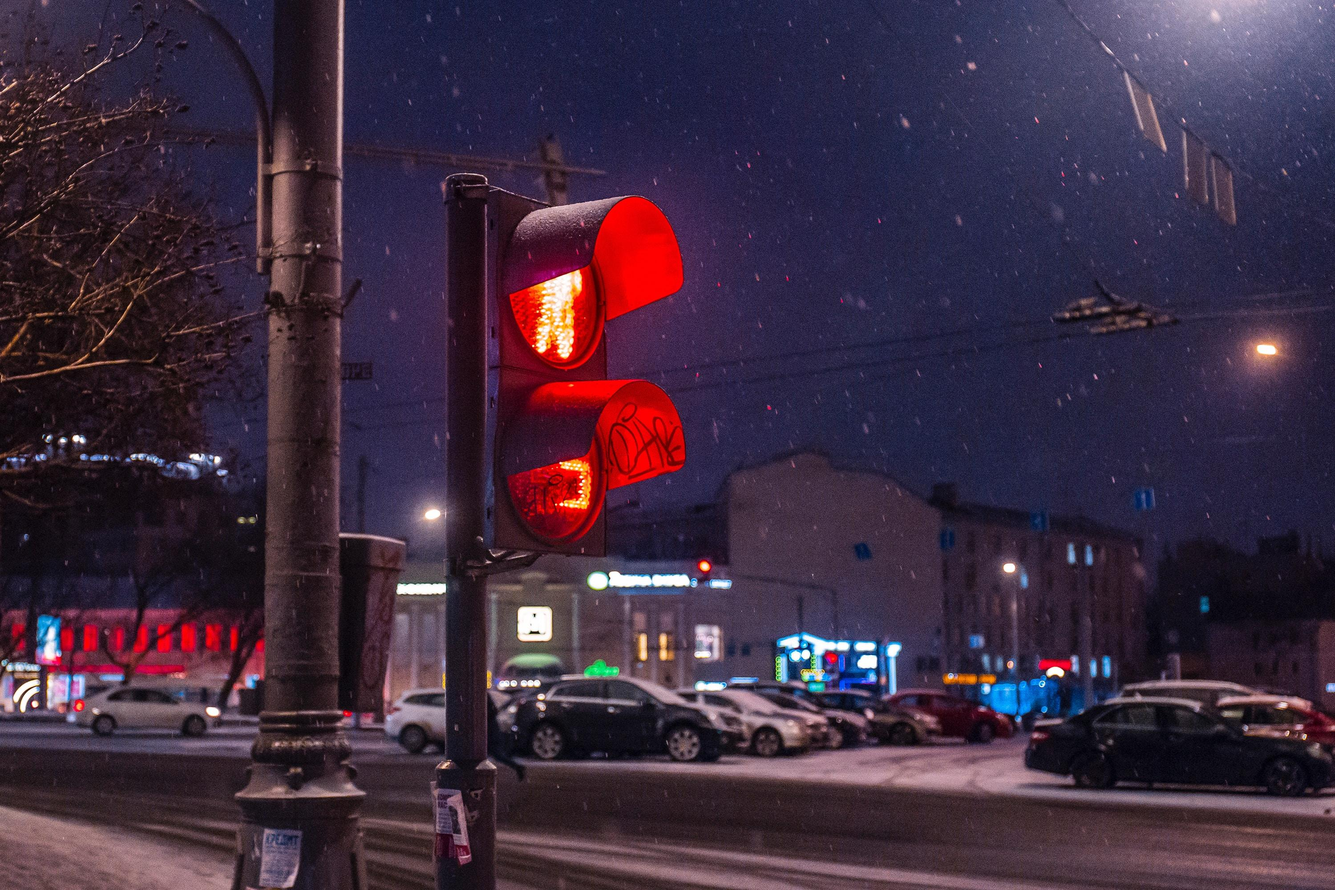red: (458, 182, 692, 583)
